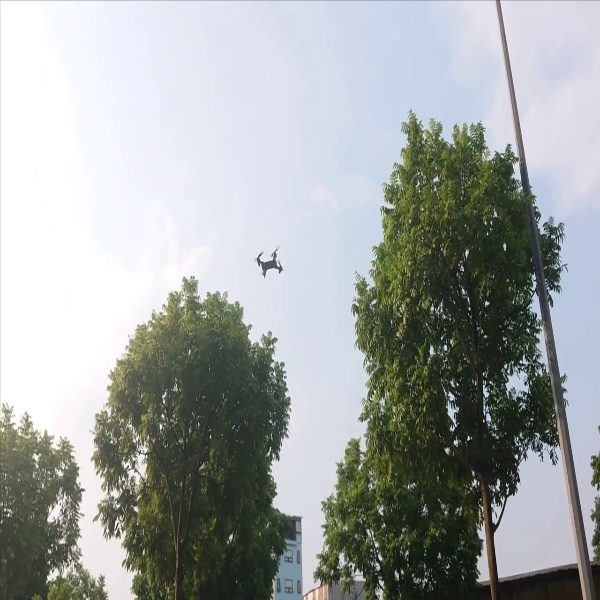drone: (251, 239, 283, 278)
